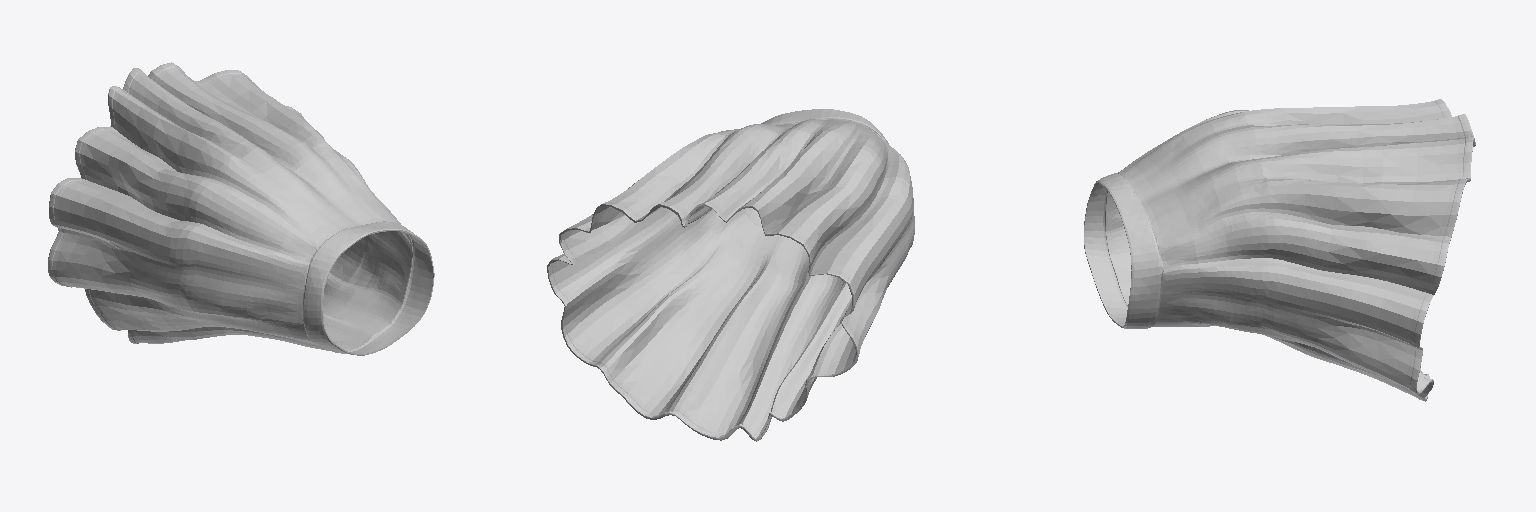
Rendered from Skirt.obj.
The picture shows the model from 3 angles: view 1: azimuth 30°, elevation 25°; view 2: azimuth 150°, elevation 25°; view 3: azimuth 270°, elevation 25°; orthographic projection.
Parts seen in each view (by area): view 1: objFigure_; view 2: objFigure_; view 3: objFigure_.
Part boxes in pixels (x1,y1,x2,y2): objFigure_: (48,62,434,355); objFigure_: (547,109,914,441); objFigure_: (1084,99,1475,401).
Bounding box in the file's own units: 17.22 × 14.04 × 19.56.